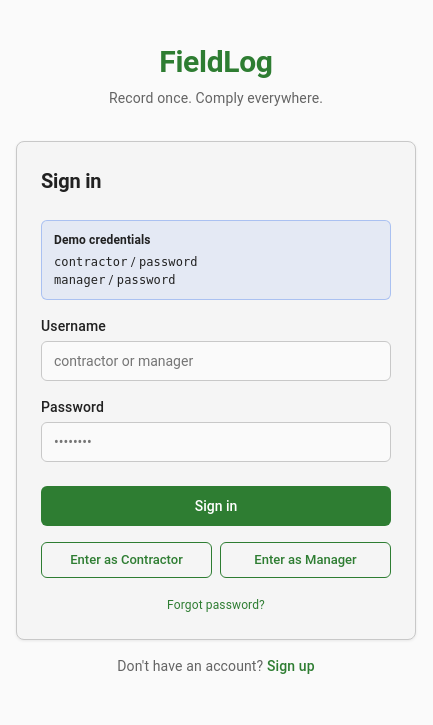
LoginPage demo credentials › rejects a wrong password for a known username
Type "manager" into the field labelled "Username". click: (216,360)
box: [41,340,391,380]
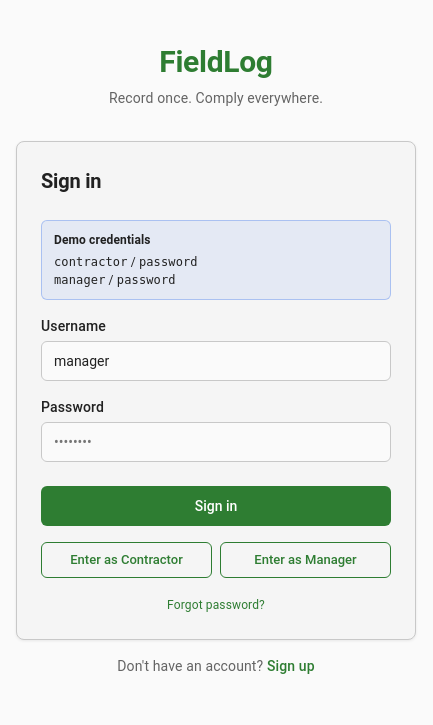
Type "secret123" into the password field labelled "Password". click: (216,442)
box: [41,422,391,462]
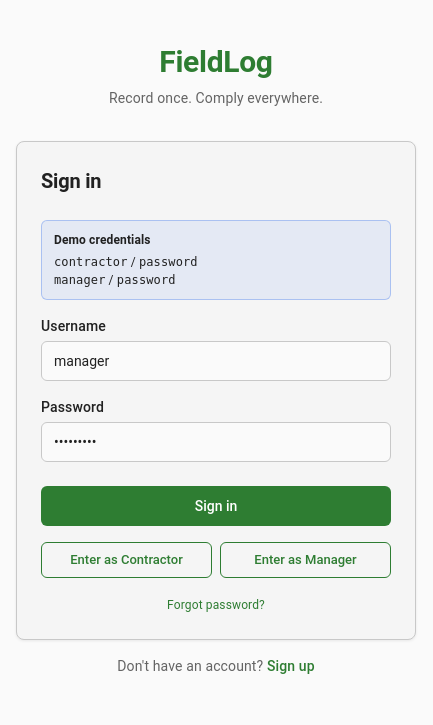
Click the button "Sign in". click: (216,506)
box: [41,486,391,526]
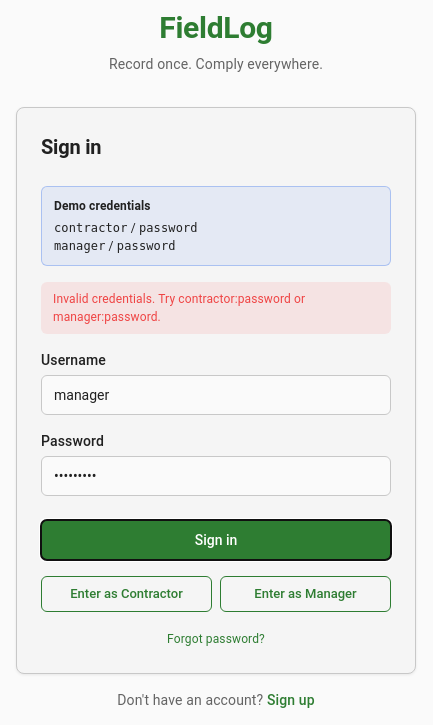
Now the message with test id "login-error" shows "Invalid credentials", box [53,292,305,324]
